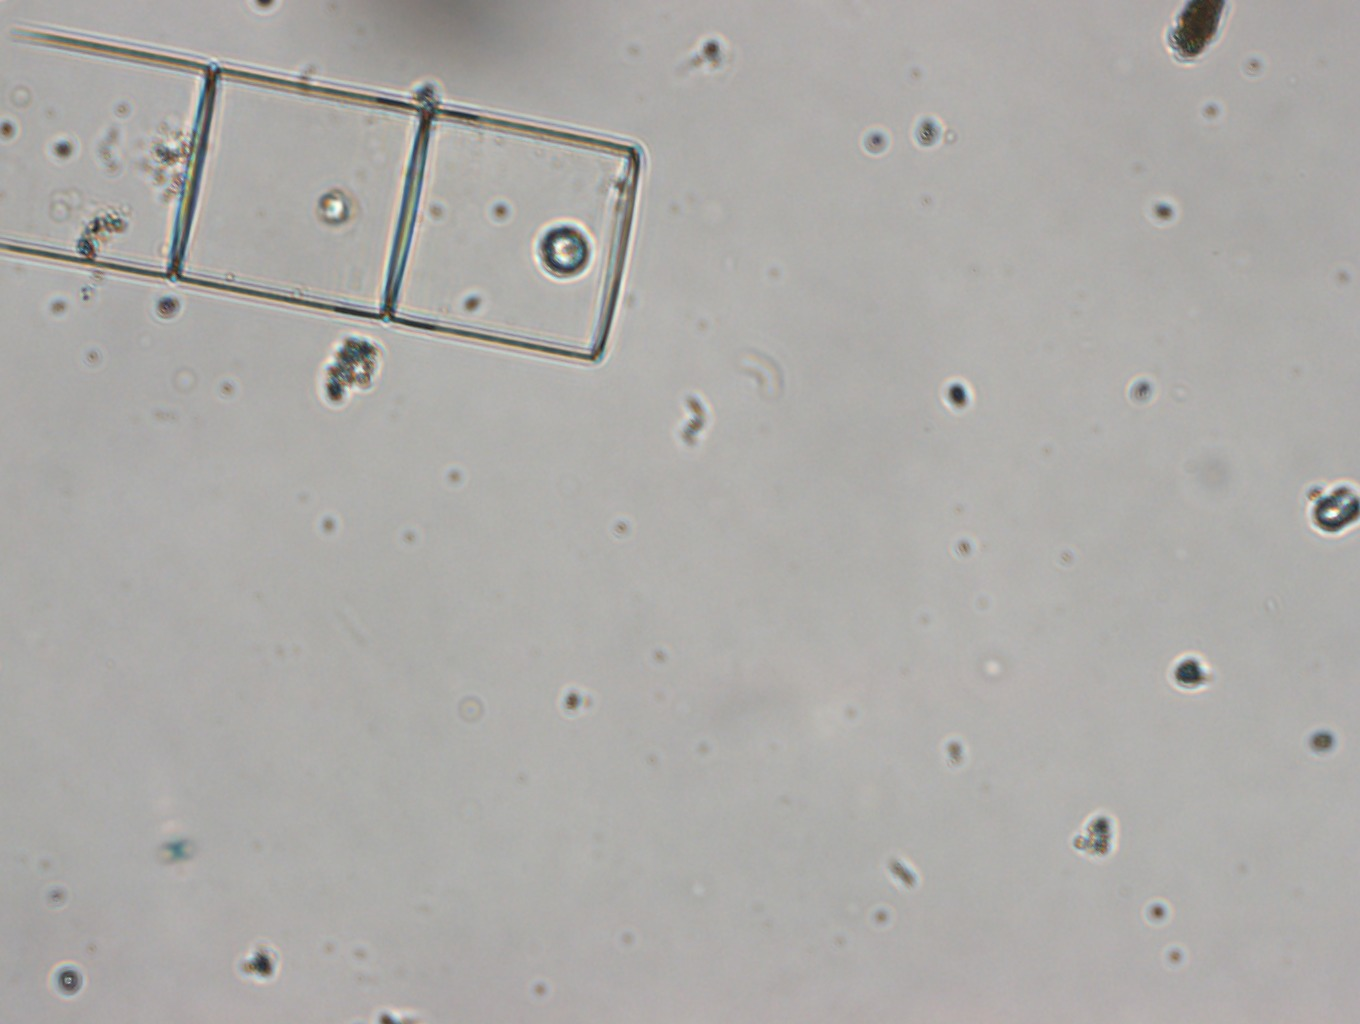guinardia flaccida: (1, 30, 640, 367)
